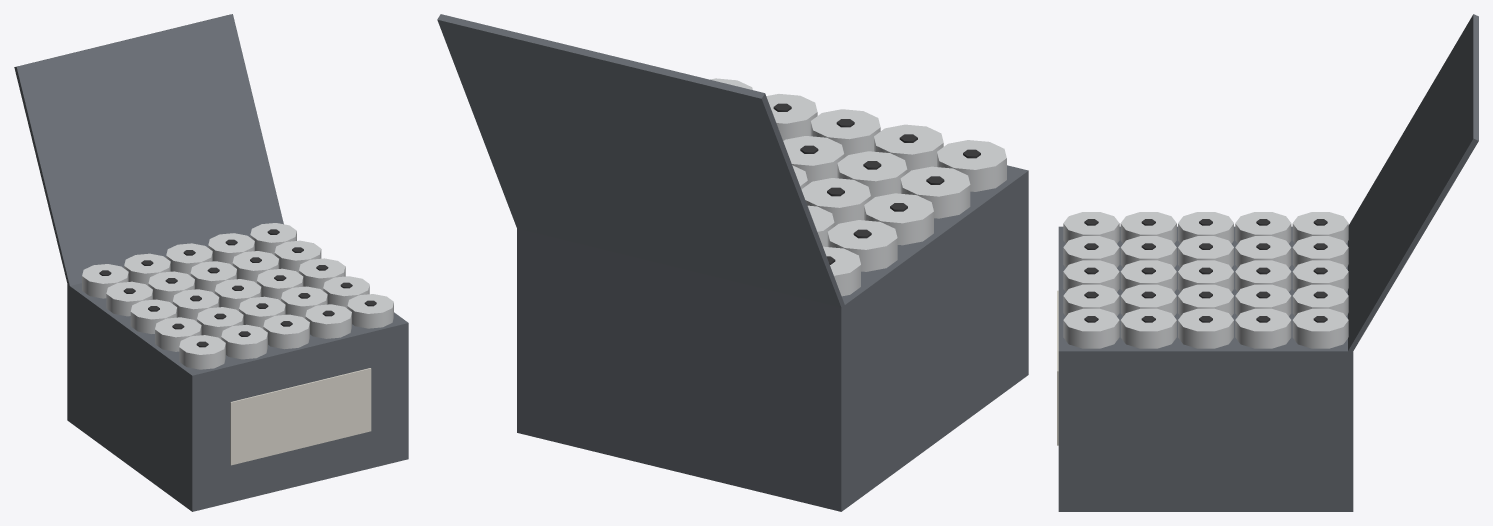
The model's file is magnesium-shells.glb.
3 views of the same model, side by side, from view 1: azimuth 30°, elevation 25°; view 2: azimuth 150°, elevation 25°; view 3: azimuth 270°, elevation 25° (orthographic). The views are drawn at different scales.
Visible parts, largest first — view 1: magnesium-shells; view 2: magnesium-shells; view 3: magnesium-shells.
Part boxes in pixels (x1,y1,x2,y2): magnesium-shells: (14,14,408,511); magnesium-shells: (437,14,1028,511); magnesium-shells: (1057,14,1478,511).
Size of the model in its own units: 0.108 by 0.151 by 0.1546.
1 material, 1 textured.
